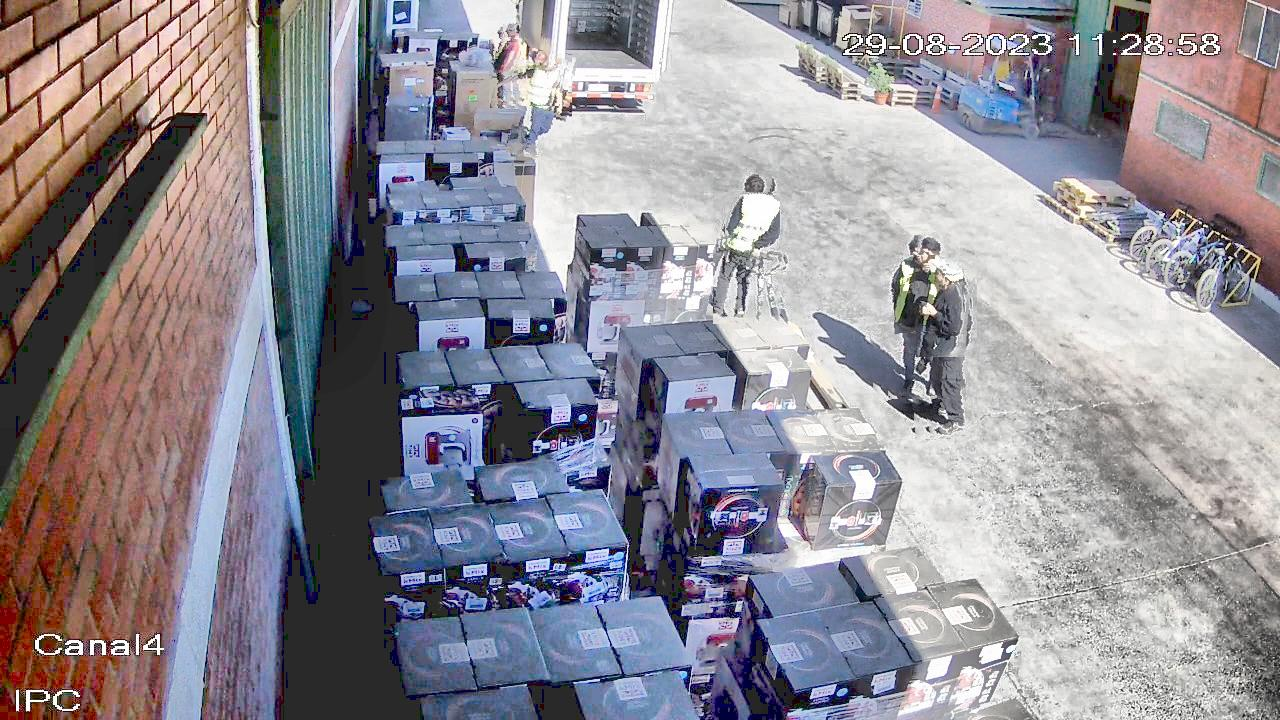con-casco: (929, 258, 973, 300), (504, 25, 520, 41)
con-chaleco: (895, 256, 947, 335), (725, 193, 781, 263), (527, 65, 561, 107)
persona: (865, 234, 957, 399), (901, 258, 977, 440), (714, 171, 789, 324), (512, 49, 572, 160), (490, 25, 526, 110)
sin-casco: (914, 236, 944, 270), (741, 170, 773, 199), (530, 52, 555, 71)
sin-chaleco: (917, 285, 972, 358), (498, 38, 523, 74)
